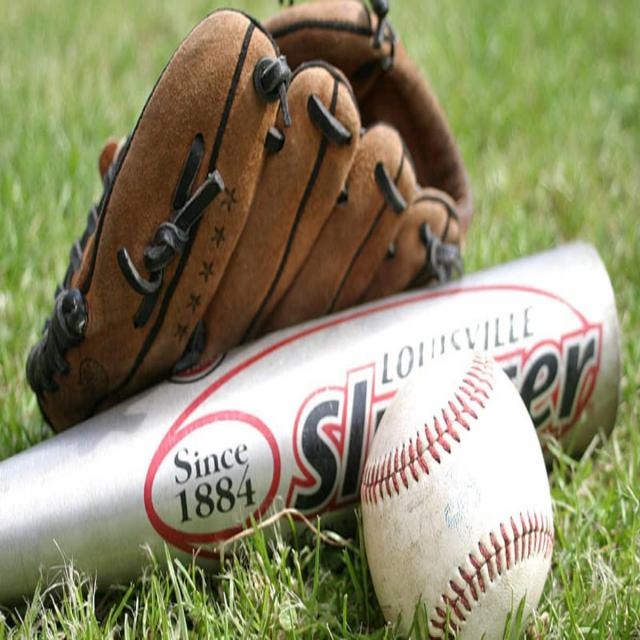baseball: (361, 355, 555, 635)
